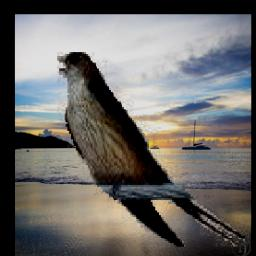Swallow: (58, 53, 251, 247)
